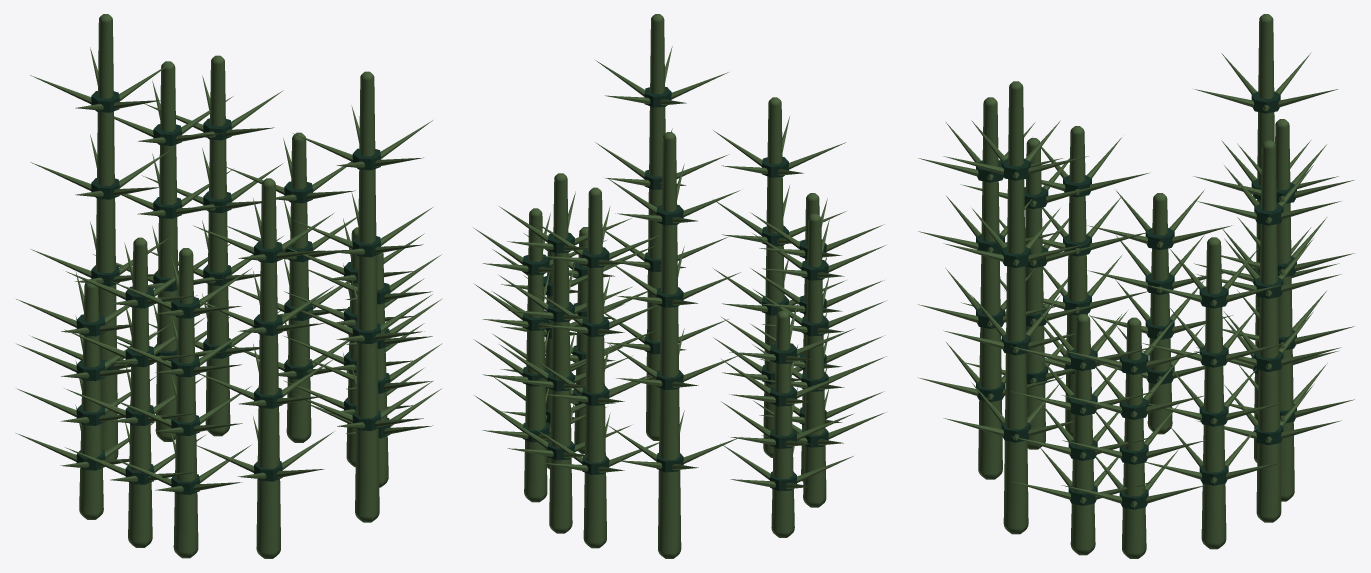
File: Horsetails.fbx
3 views of the same model, side by side, from view 1: azimuth 30°, elevation 25°; view 2: azimuth 150°, elevation 25°; view 3: azimuth 270°, elevation 25° (orthographic). The views are drawn at different scales.
Parts seen in each view (by area): view 1: Horsetails; view 2: Horsetails; view 3: Horsetails.
Part boxes in pixels (x1,y1,x2,y2): Horsetails: (16,14,442,558); Horsetails: (473,14,886,558); Horsetails: (918,14,1354,558).
Bounding box in the file's own units: 123 × 141 × 124.
